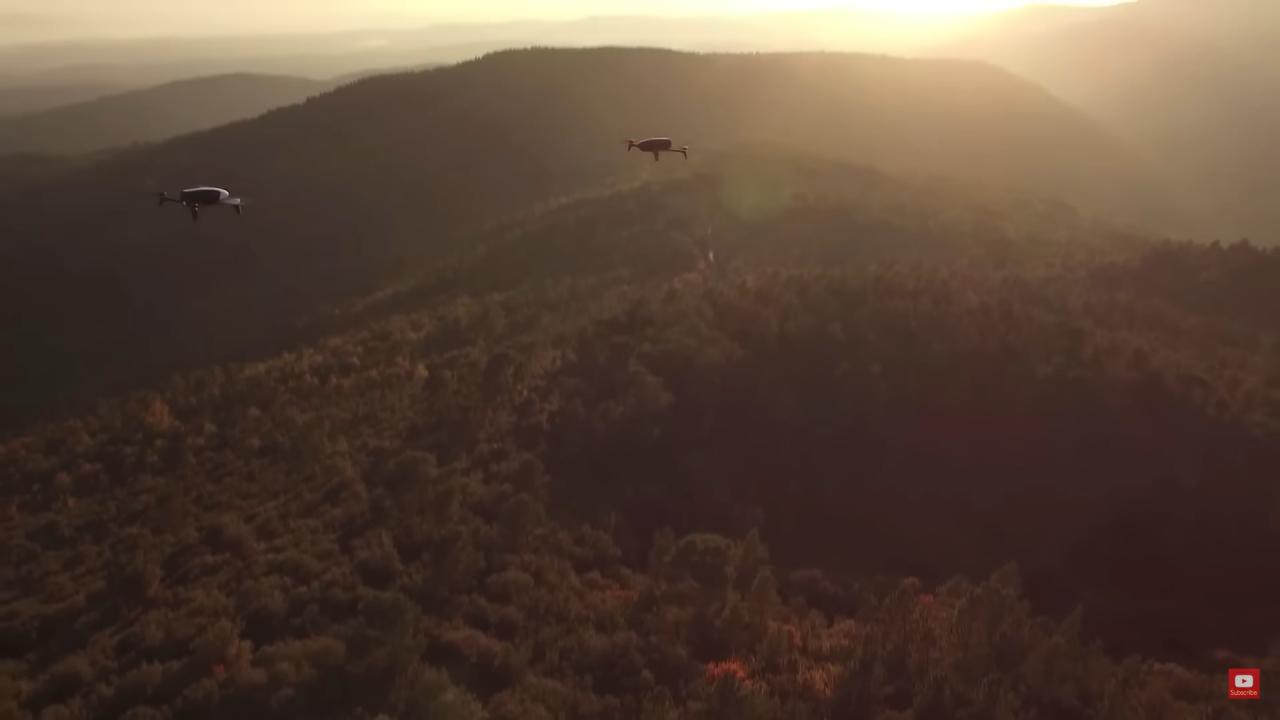Drone: (144, 178, 252, 228), (614, 132, 698, 166)
